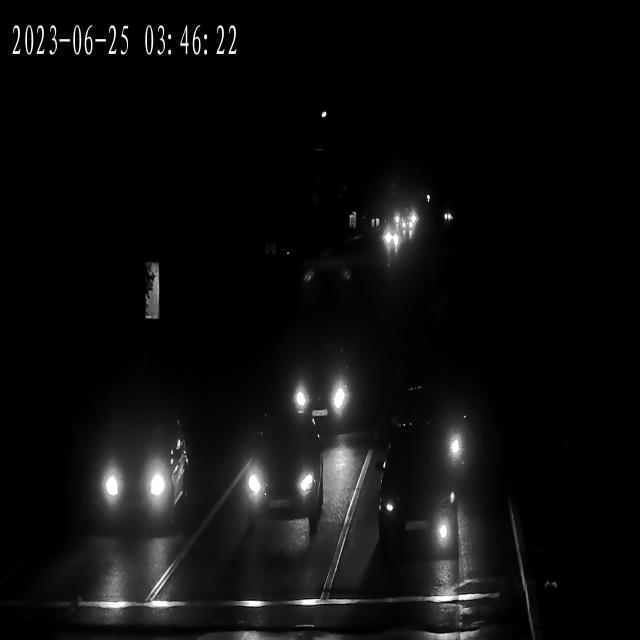Car: (81, 411, 189, 538), (380, 384, 474, 481), (235, 428, 324, 522), (378, 468, 465, 562), (286, 349, 359, 428), (402, 208, 420, 233), (385, 228, 404, 251)
